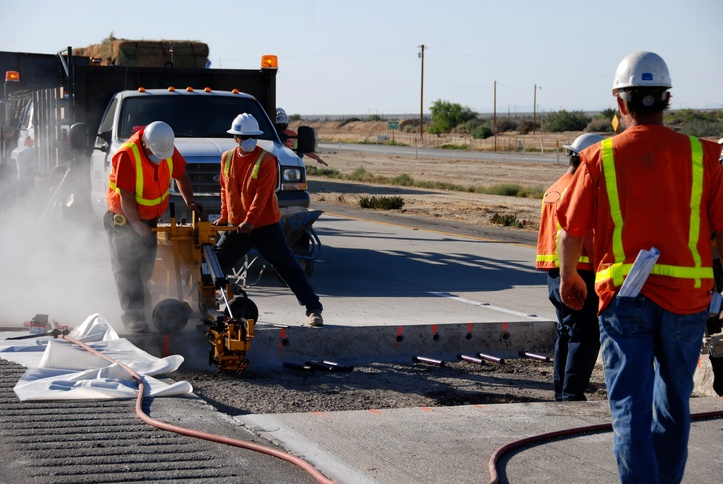white: (612, 49, 676, 123), (566, 132, 606, 171), (139, 121, 175, 163), (228, 111, 260, 152)
